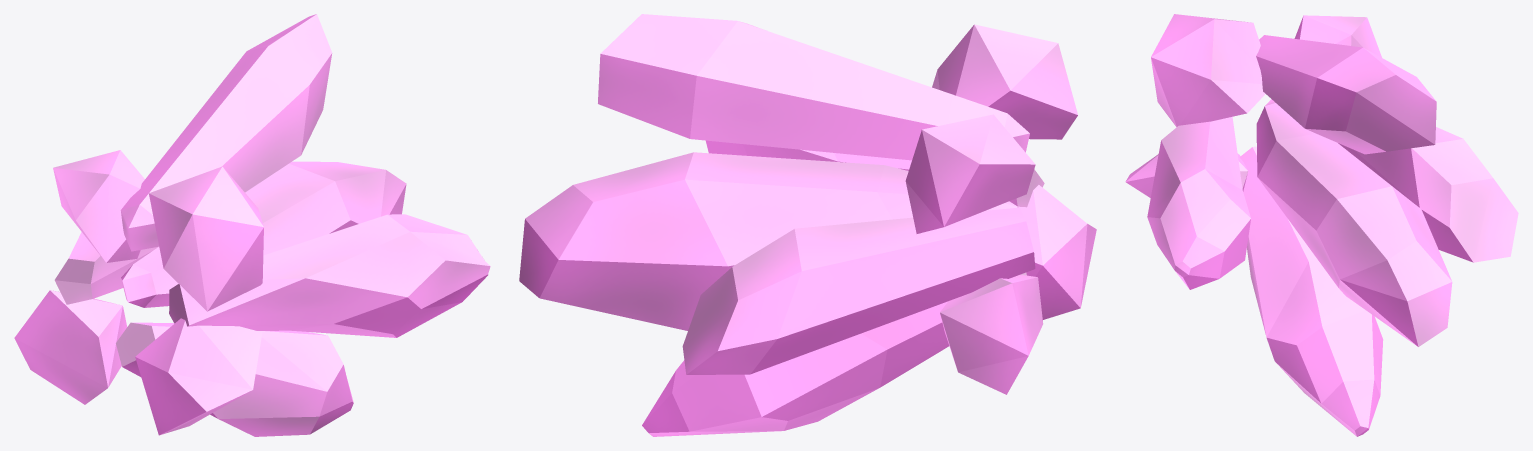
The model's file is Cristal_gem.015.fbx.
3 views of the same model, side by side, from view 1: azimuth 30°, elevation 25°; view 2: azimuth 150°, elevation 25°; view 3: azimuth 270°, elevation 25° (orthographic). The views are drawn at different scales.
Visible parts, largest first — view 1: Crystal_gem.015; view 2: Crystal_gem.015; view 3: Crystal_gem.015.
Boxes of the visible parts, x1,y1,x2,y2 form: Crystal_gem.015: [14, 14, 490, 436]; Crystal_gem.015: [519, 14, 1096, 436]; Crystal_gem.015: [1125, 14, 1518, 436].
Size of the model in its own units: 88.54 by 78.15 by 78.18.
